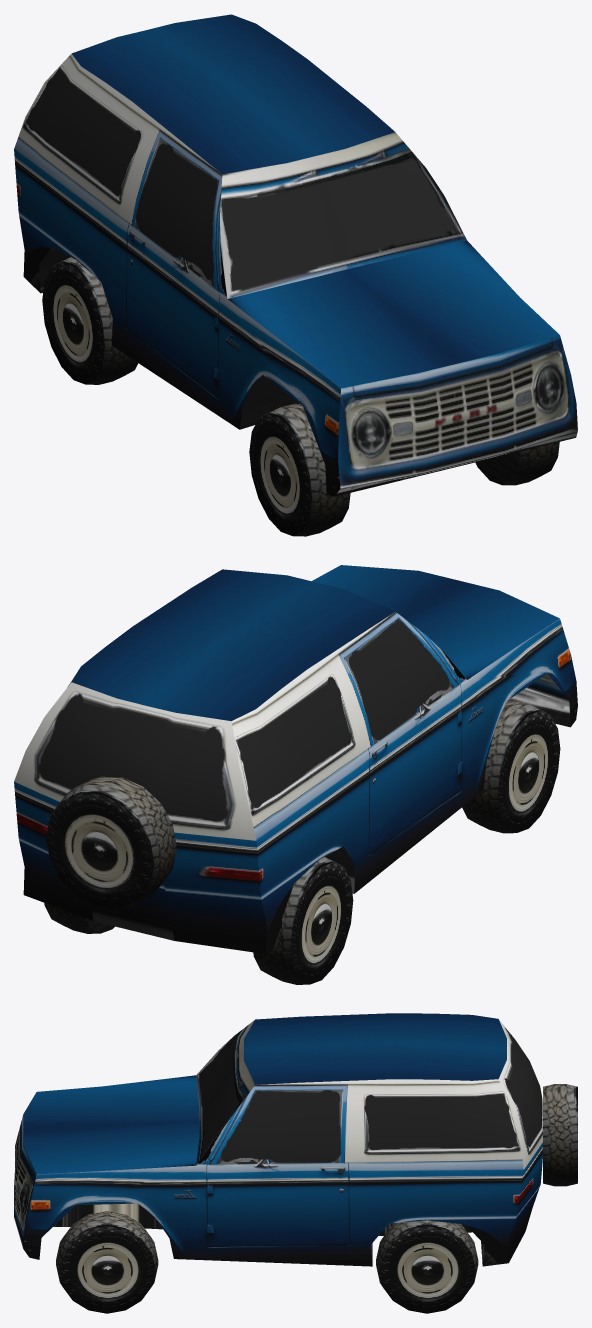
The model's file is lopolybronco.obj.
The picture shows the model from 3 angles, top to bottom: view 1: azimuth 30°, elevation 25°; view 2: azimuth 150°, elevation 25°; view 3: azimuth 270°, elevation 25°; orthographic projection. The views are drawn at different scales.
Parts seen in each view (by area): view 1: Cube; view 2: Cube; view 3: Cube.
Boxes of the visible parts, bbox=[...] form: Cube: bbox=[14, 14, 577, 536]; Cube: bbox=[14, 565, 577, 984]; Cube: bbox=[14, 1013, 577, 1313].
Size of the model in its own units: 0.6418 by 0.7256 by 1.63.
